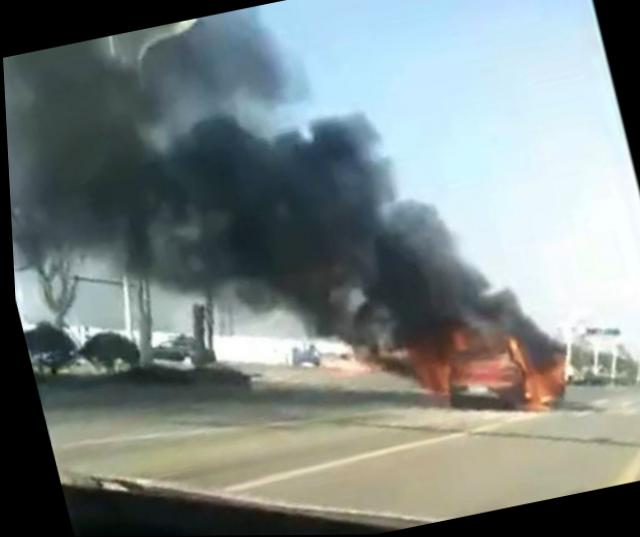fire: (400, 300, 575, 429)
